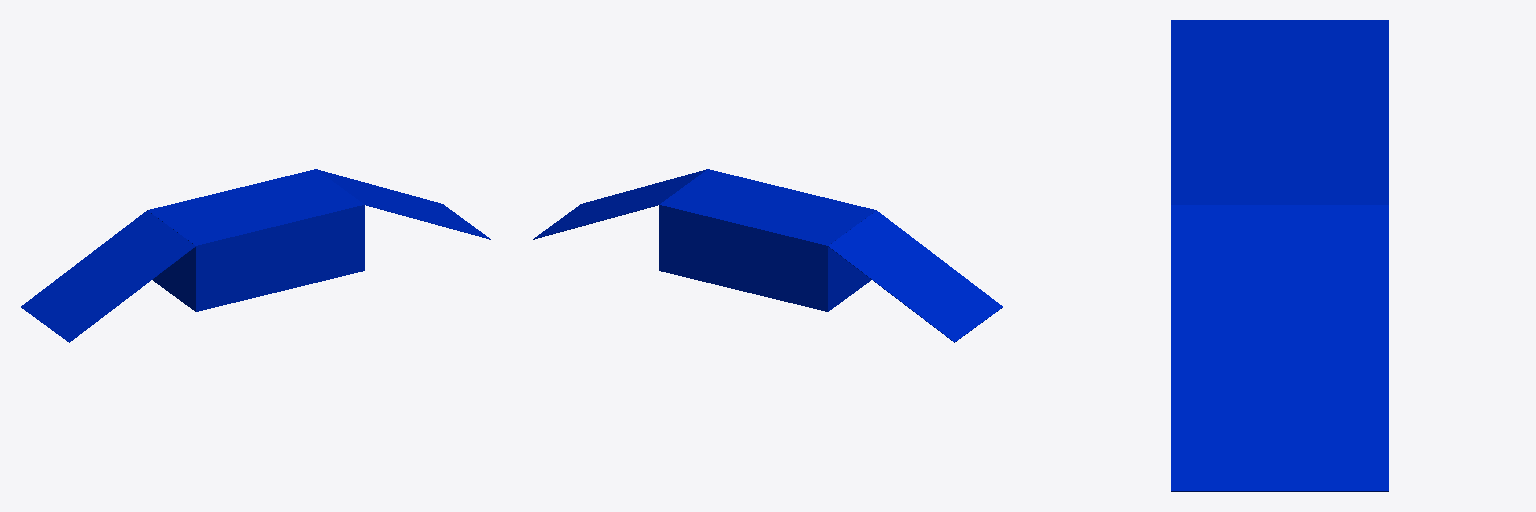
URDF robot description (rampa):
<?xml version="1.0"?>
<robot name="rampa">

    <material name="blue">
        <color rgba="0.0 0.2 0.8 1.0" />
    </material>

    <link name="base_link">
        <inertial>
            <origin xyz="10.0 0.0 0.75" rpy="0.0 0.0 0.0" />
            <mass value="10000.0" />
            <inertia ixx="1.0" ixy="0.0" ixz="0.0" iyy="1.0" iyz="0.0" izz="1.0" />
        </inertial>

        <visual>
            <origin xyz="10.0 0.0 0.75 " />
            <geometry>
                <box size="4 2 1.5" />
            </geometry>
            <material name="blue" />
        </visual>
        <collision>
            <origin xyz="10.0 0.0 0.75" rpy="0.0 0.0 0.0" />
            <geometry>
                <box size="4 2 1.5" />
            </geometry>
        </collision>

    </link>
    <link name="ramp">
        <inertial>
            <origin xyz="6.5 0 0.75" />
            <mass value="2.0" />
            <inertia ixx="1.0" ixy="0.0" ixz="0.0" iyy="1.0" iyz="0.0" izz="1.0" />
        </inertial>
        <visual name="">
            <origin xyz="6.5 0 0.75" rpy="0.0 -0.46 0.0" />
            <geometry>
                <box size="3.35 2 0.01" />
            </geometry>
            <material name="blue" />
        </visual>
        <collision>
            <origin xyz="6.5 0 0.75" rpy="0.0 -0.46 0.0" />
            <geometry>
                <box size="3.35 2 0.01" />
            </geometry>
        </collision>
    </link>
    <joint name="ramp_up" type="fixed">
        <parent link="base_link" />
        <child link="ramp" />
        <origin xyz="0.0 0.0 0.0" rpy="0.0 0.0 0.0" />
        <dynamics damping="0.0" friction="0.00001" />

    </joint>
    <link name="ramp2">
        <inertial>
            <origin xyz="13.5 0 0.75" />
            <mass value="2.0" />
            <inertia ixx="1.0" ixy="0.0" ixz="0.0" iyy="1.0" iyz="0.0" izz="1.0" />
        </inertial>
        <visual name="">
            <origin xyz="13.5 0 0.75" rpy="0.0 0.46 0.0" />
            <geometry>
                <box size="3.35 2 0.01" />
            </geometry>
            <material name="blue" />
        </visual>
        <collision>
            <origin xyz="13.5 0 0.75" rpy="0.0 0.46 0.0" />
            <geometry>
                <box size="3.35 2 0.01" />
            </geometry>
        </collision>
    </link>
    <joint name="ramp_down" type="fixed">
        <parent link="base_link" />
        <child link="ramp2" />
        <origin xyz="0.0 0.0 0.0" rpy="0.0 0.0 0.0" />
        <dynamics damping="0.0" friction="0.00001" />

    </joint>



</robot>

--- Facts derived from the render (not from the file) ---
The picture shows the robot from 3 angles, left to right: view 1: azimuth 30°, elevation 25°; view 2: azimuth 150°, elevation 25°; view 3: azimuth 270°, elevation 25°; orthographic projection.
Robot: rampa — 3 links, 2 joints (2 fixed); root link base_link; default pose: every joint at zero.
Visible links, largest first — view 1: base_link, ramp, ramp2; view 2: base_link, ramp, ramp2; view 3: ramp2, base_link.
Boxes of the visible links, left/top/right/bottom form: base_link: left=147, top=169, right=364, bottom=311; ramp: left=21, top=211, right=195, bottom=342; ramp2: left=317, top=169, right=490, bottom=239; base_link: left=659, top=169, right=876, bottom=311; ramp: left=828, top=211, right=1002, bottom=342; ramp2: left=533, top=169, right=706, bottom=239; ramp2: left=1171, top=205, right=1388, bottom=491; base_link: left=1171, top=20, right=1388, bottom=204.
Size in the robot's own frame: 10.01 by 2 by 1.5 metres.
Geometry: primitives only (box / cylinder / sphere), no mesh files.